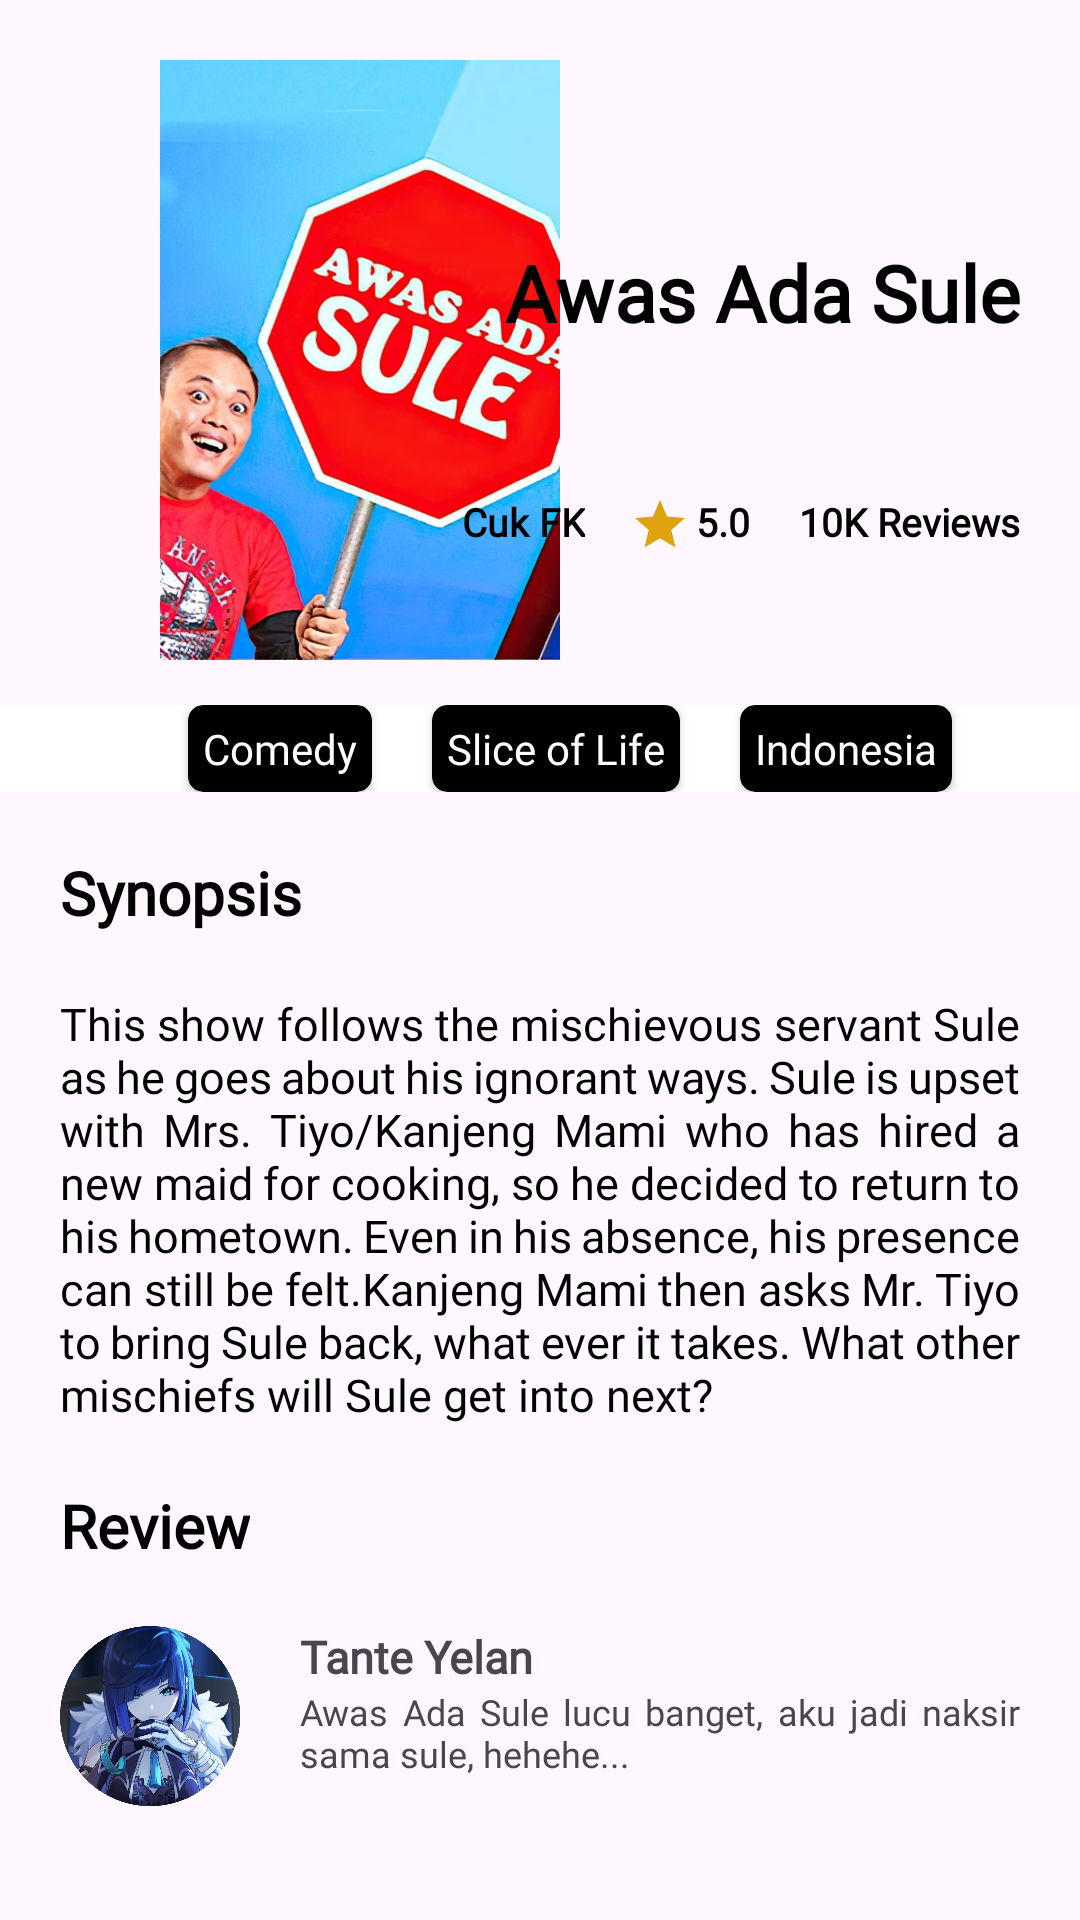

Screen size 1080px x 1920px. Icon name, then its box in pixels as [x1, y1, x2, y2]:
star: [635, 500, 685, 548]
